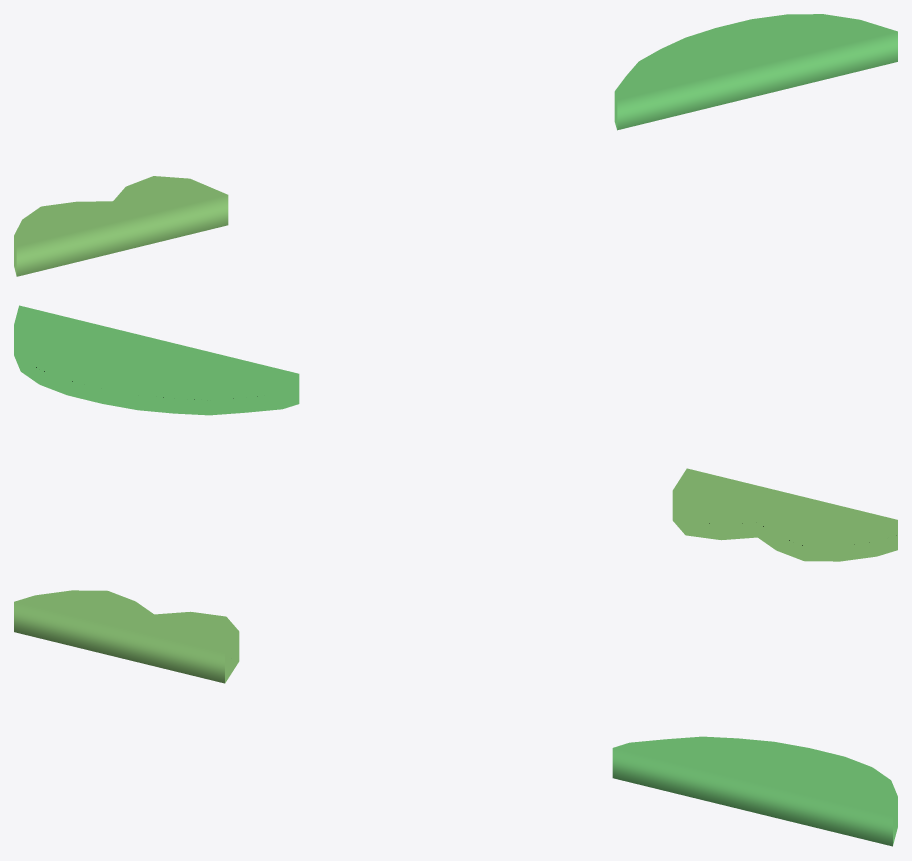
Rendered from hillleft.fbx.
3 renders of one model, top to bottom at view 1: azimuth 30°, elevation 25°; view 2: azimuth 150°, elevation 25°; view 3: azimuth 330°, elevation 25°, orthographic.
Parts seen in each view (by area): view 1: hillsright1; view 2: hillsright1; view 3: hillsright1.
Part boxes in pixels (left/top/right/bottom): hillsright1: left=14, top=14, right=897, bottom=276; hillsright1: left=14, top=305, right=897, bottom=561; hillsright1: left=14, top=590, right=897, bottom=846.
Bounding box in the file's own units: 0.6072 × 0.02 × 0.0587.
